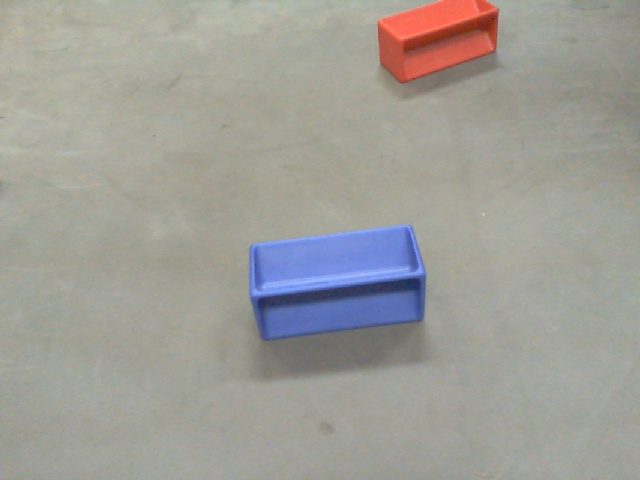BlueSample: (244, 221, 427, 341)
RedSample: (376, 1, 500, 84)
